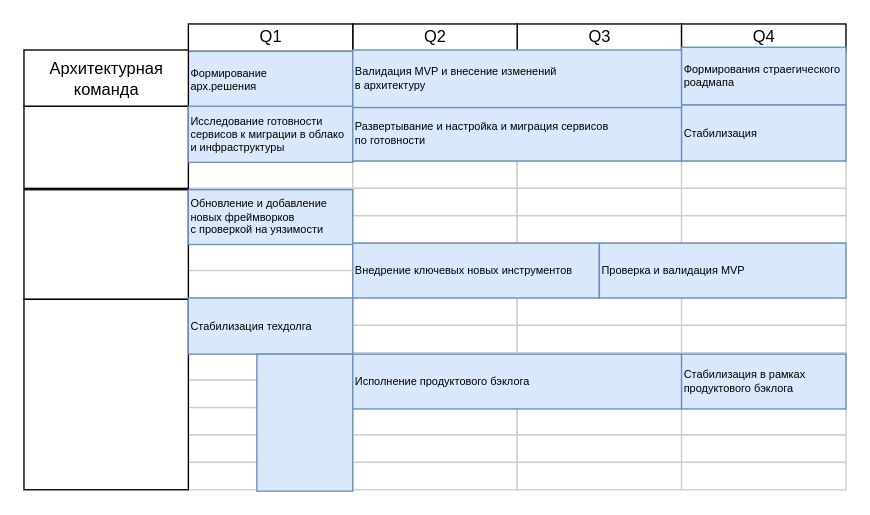
Image size: 870x515. Some labels were removed from this diagram. The shapes that lost their labels are listed below. From the top down, each one's centre as x and y in pixels, then its label:
point (105, 146): Инфраструктурная команда
point (105, 243): Команда иноваций и ИБ
point (105, 394): Продуктовые команды
point (304, 422): Формирование бэклога по обновленному арх.решению и инфраструктуре
